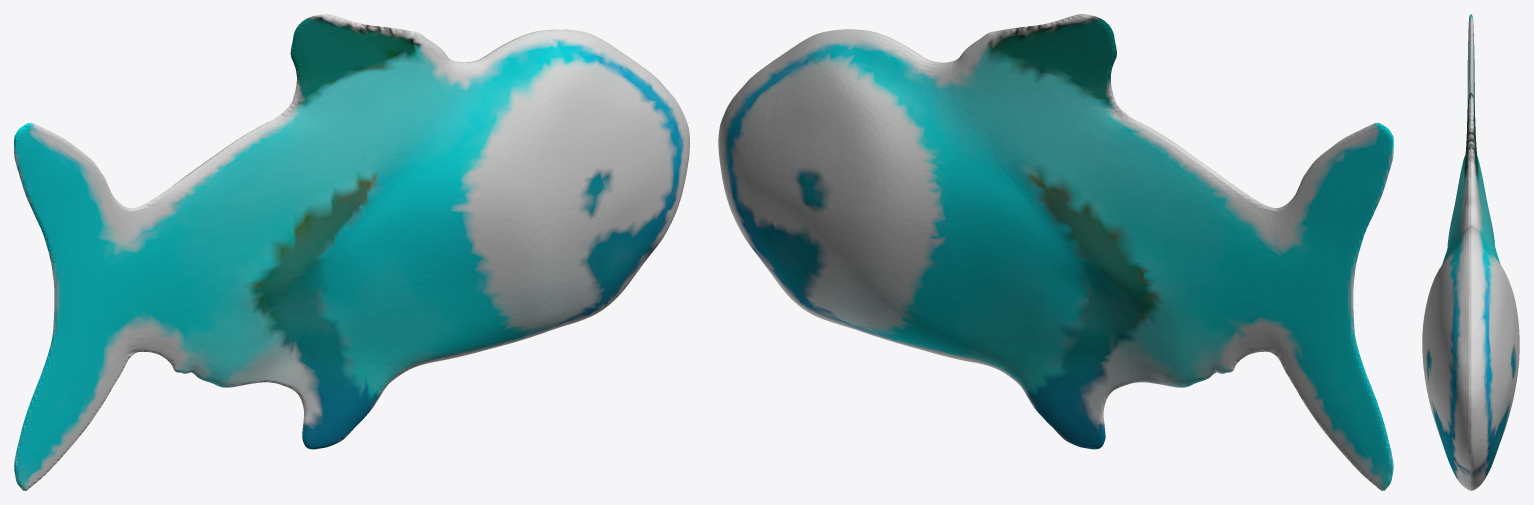
Rendered from fishfood.glb.
The picture shows the model from 3 angles, left to right: view 1: azimuth 30°, elevation 25°; view 2: azimuth 150°, elevation 25°; view 3: azimuth 270°, elevation 25°; orthographic projection. The views are drawn at different scales.
Parts seen in each view (by area): view 1: geometry_0; view 2: geometry_0; view 3: geometry_0.
Part boxes in pixels (x1,y1,x2,y2): geometry_0: (14,14,689,490); geometry_0: (718,14,1393,490); geometry_0: (1422,14,1519,490).
Bounding box in the file's own units: 0.6562 × 0.4037 × 0.1044.
